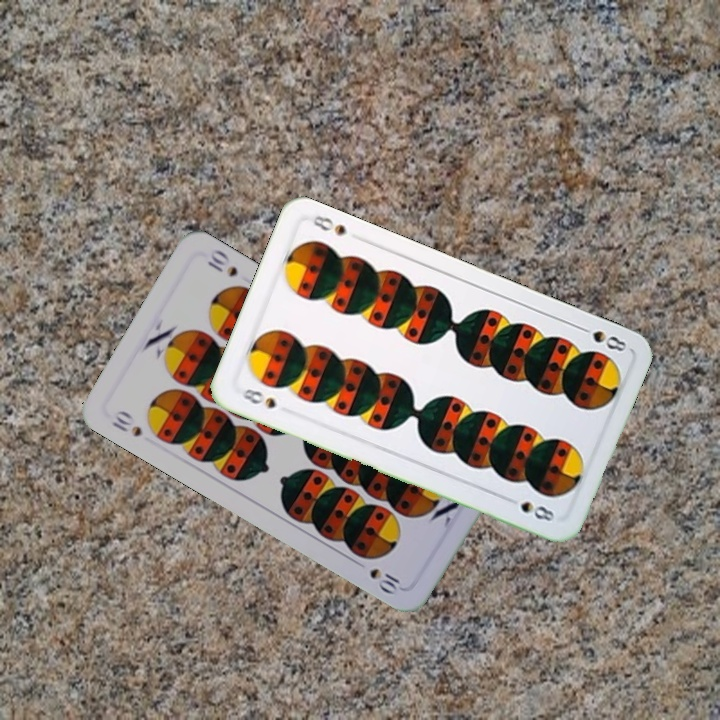S10: (107, 406, 145, 440)
S8: (573, 321, 629, 355), (237, 384, 279, 412)
